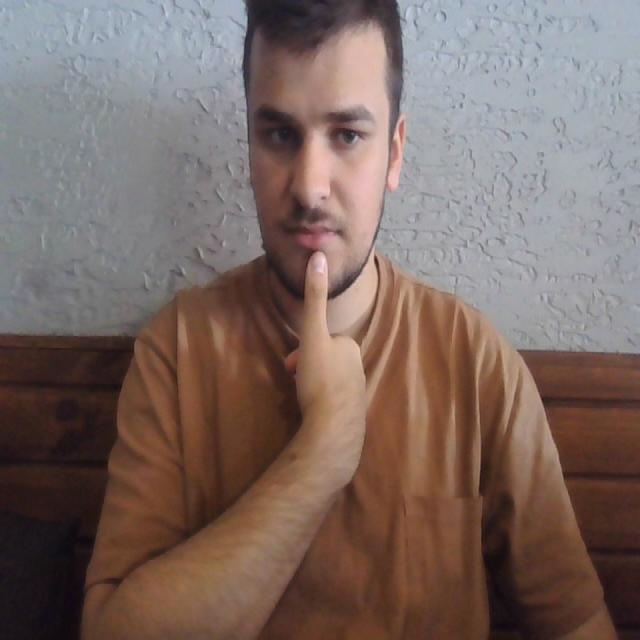Baba: (271, 203, 360, 320)
